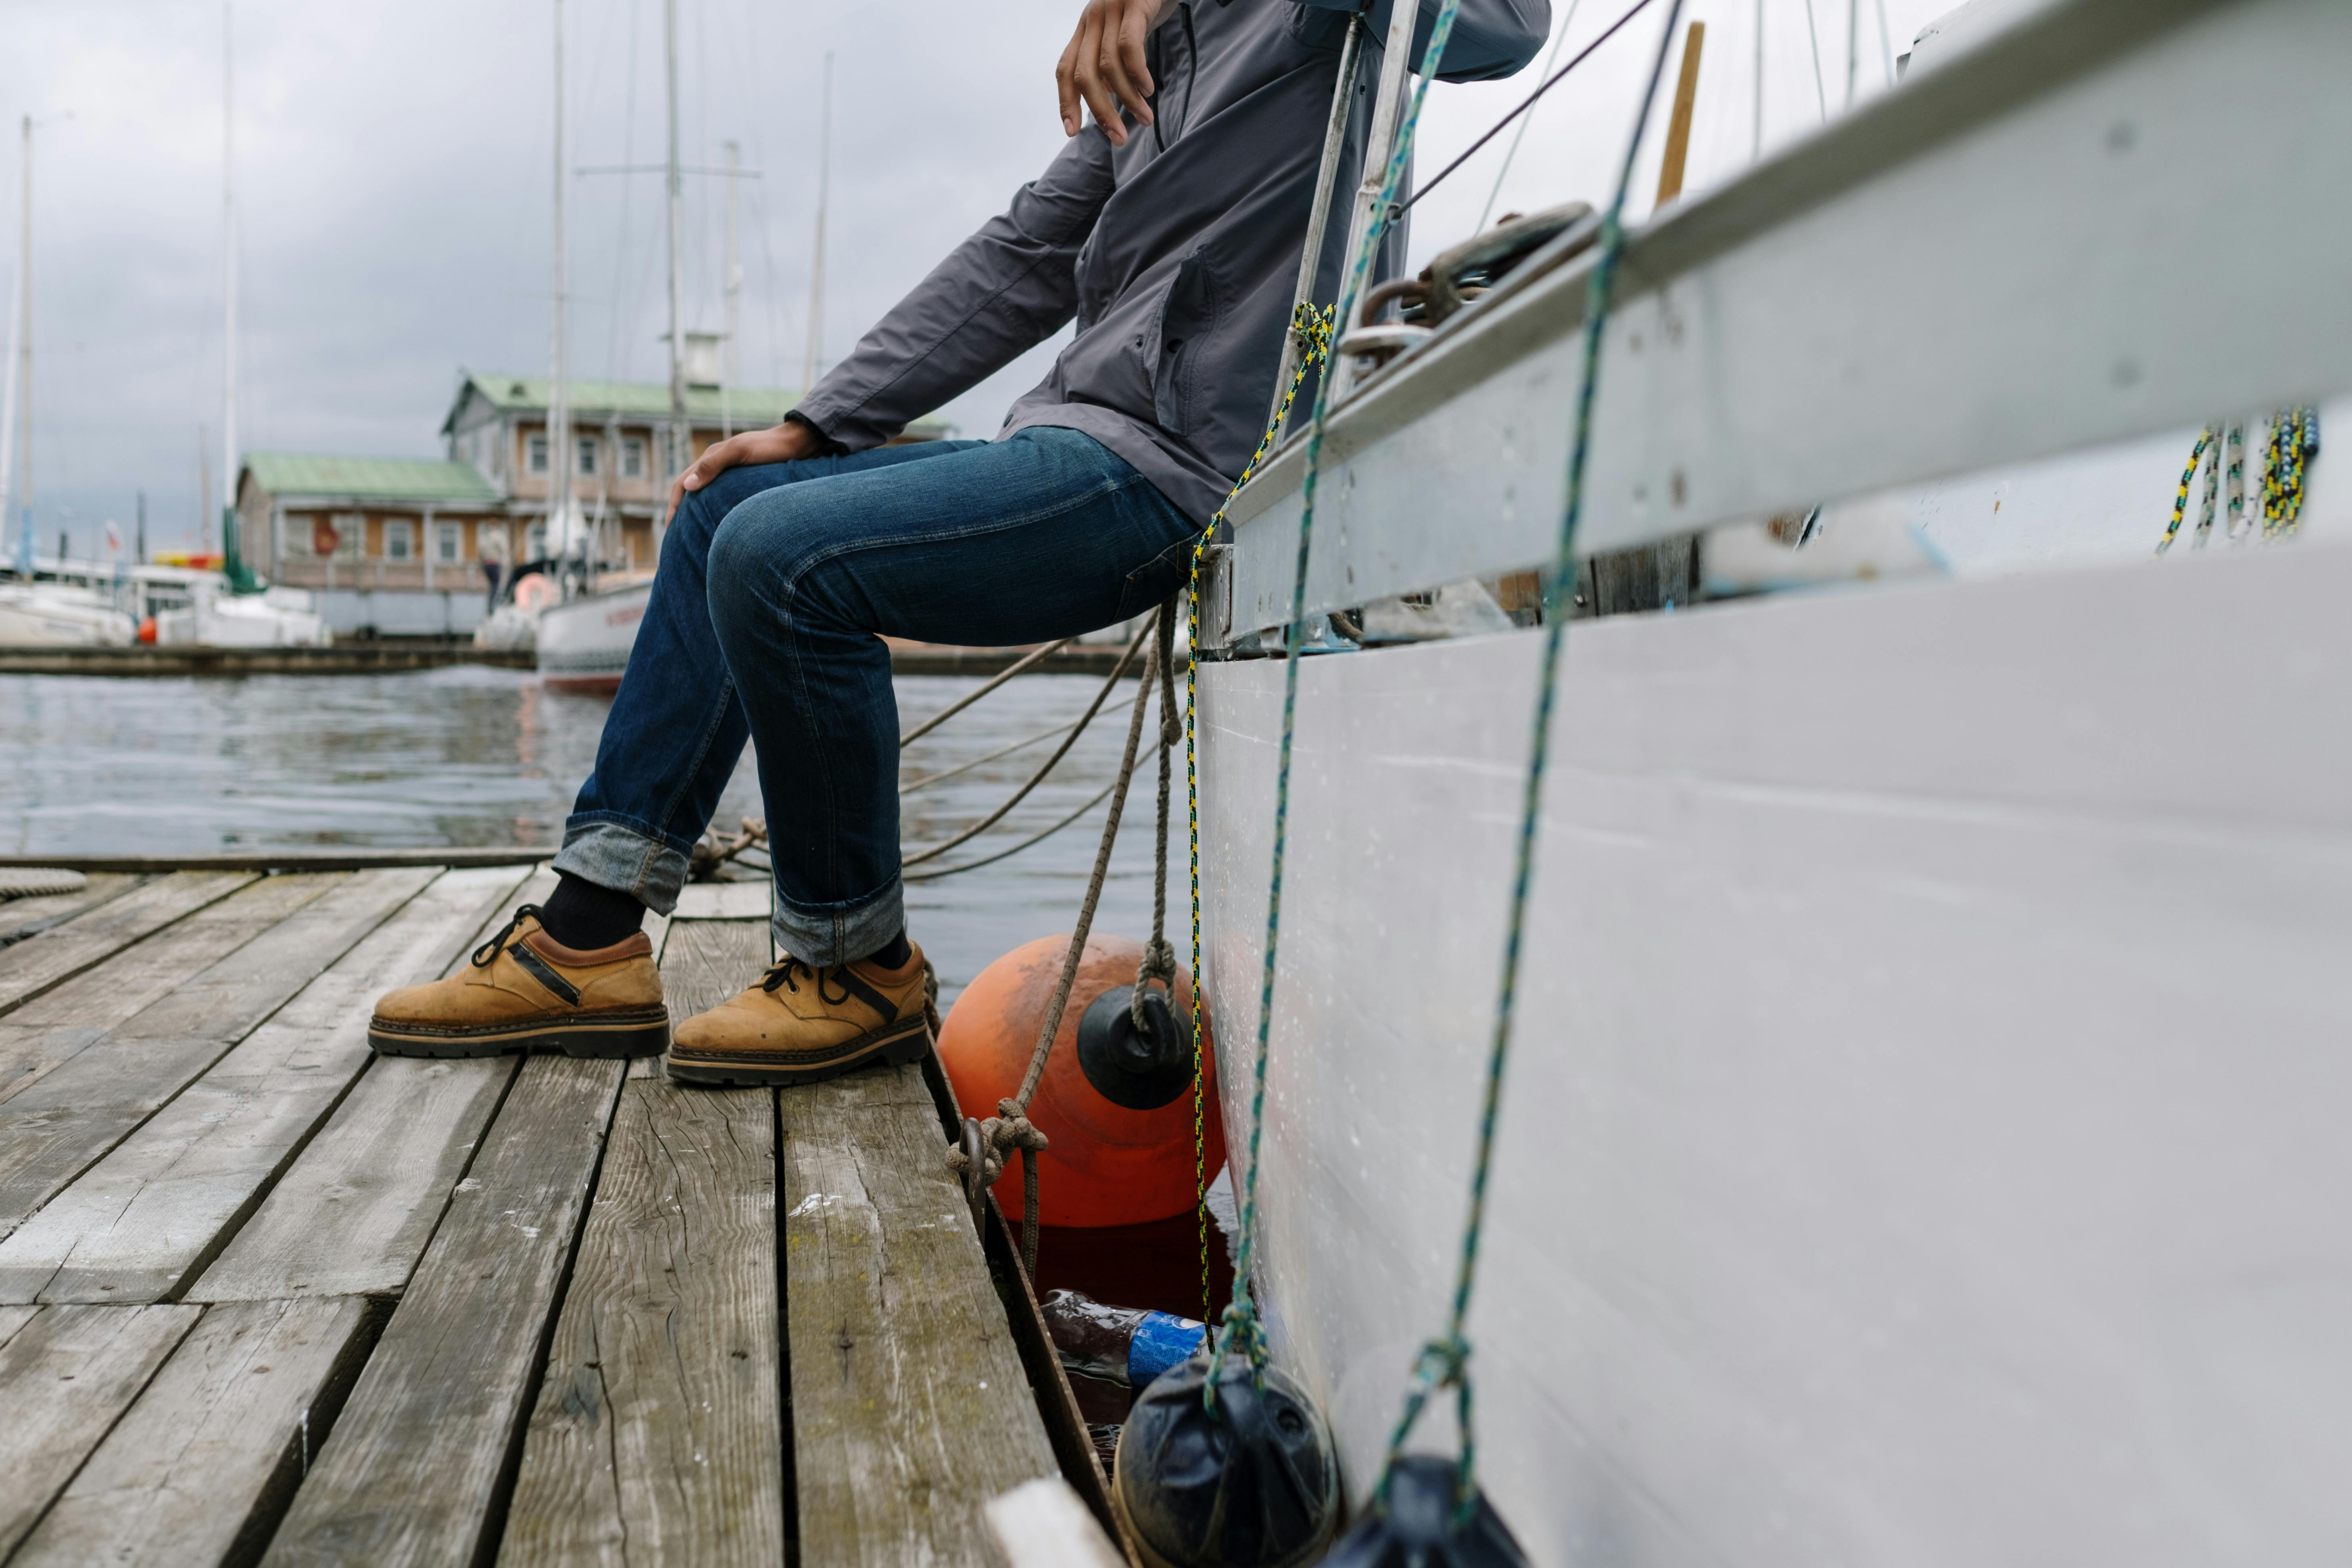Footwear: (346, 899, 691, 1092), (633, 936, 976, 1104)
